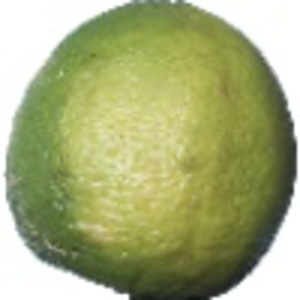limão: (5, 1, 298, 300)
